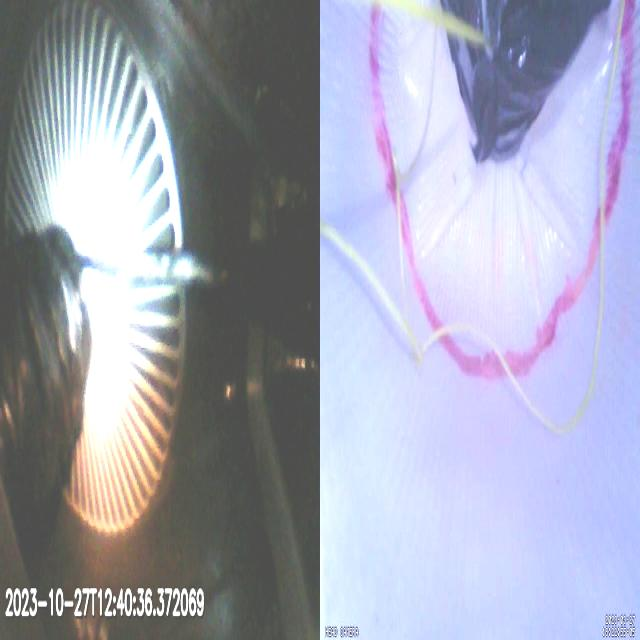red-circle: (369, 0, 635, 383)
